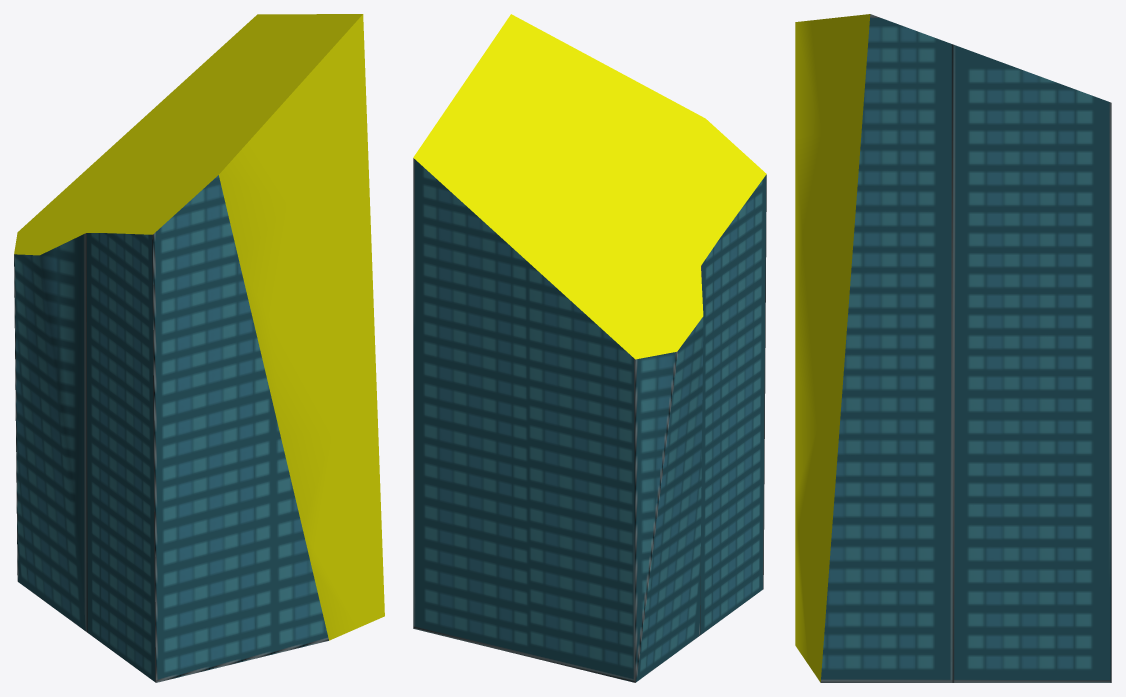
The model's file is boAShard1.fbx.
The picture shows the model from 3 angles, left to right: view 1: azimuth 30°, elevation 25°; view 2: azimuth 150°, elevation 25°; view 3: azimuth 270°, elevation 25°; orthographic projection. The views are drawn at different scales.
Visible parts, largest first — view 1: shard56; view 2: shard56; view 3: shard56.
Boxes of the visible parts, box(x1,y1,x2,y2) form: shard56: box(14, 14, 384, 682); shard56: box(413, 14, 766, 682); shard56: box(795, 14, 1111, 682).
Size of the model in its own units: 0.1015 by 0.2141 by 0.0917.
2 materials, 1 textured.
